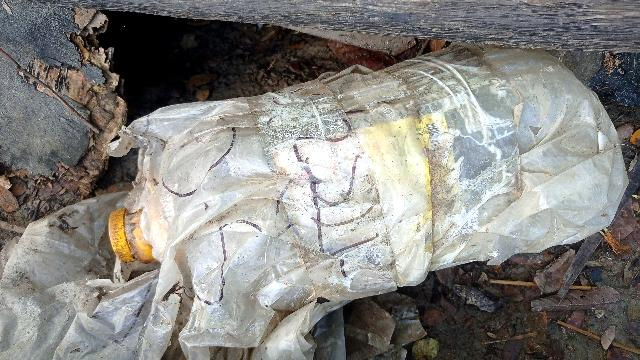bottle: (132, 22, 622, 335)
